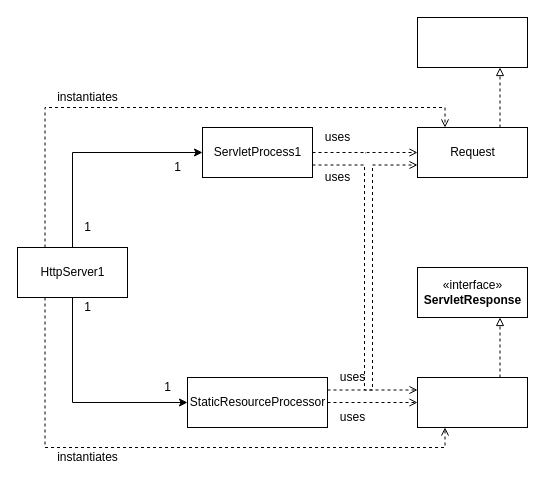
Some shapes in this 545 by 485 pixel diagram are drawn without their labels. The centre of each missing label's shape, as x and y in pixels:
"Response" belongs at (x=472, y=402).
"«interface» ServletRequest" belongs at (x=472, y=42).
